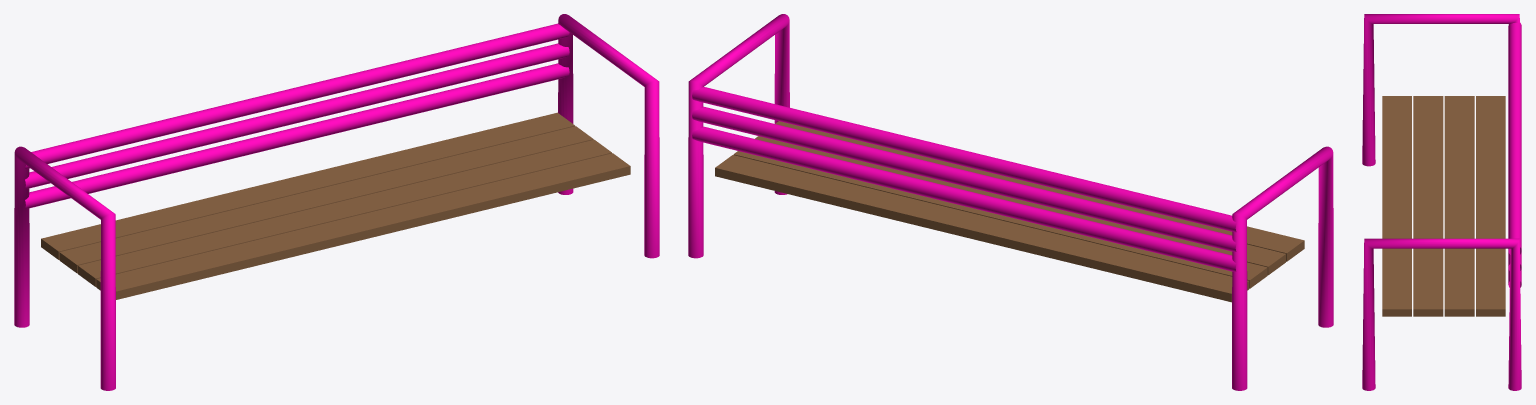
Rendered from silla pasillo.fbx.
3 renders of one model, left to right at view 1: azimuth 30°, elevation 25°; view 2: azimuth 150°, elevation 25°; view 3: azimuth 270°, elevation 25°, orthographic. The views are drawn at different scales.
Visible parts, largest first — view 1: Tablon_0, Tablon_1, Tablon_2, Tablon_3, Varilla_Respaldo_0, Varilla_Respaldo_1, Varilla_Respaldo_2, Marco_LI, Marco_LD; view 2: Tablon_3, Varilla_Respaldo_0, Varilla_Respaldo_1, Varilla_Respaldo_2, Marco_LI, Marco_LD, Tablon_2, Tablon_0, Tablon_1; view 3: Tablon_1, Tablon_2, Tablon_0, Tablon_3, Marco_LD, Marco_LI, Varilla_Respaldo_0.
Boxes of the visible parts, x1=… form: Tablon_0: x1=96, y1=153, x2=630, y2=299; Tablon_1: x1=78, y1=139, x2=611, y2=286; Tablon_2: x1=59, y1=126, x2=593, y2=273; Tablon_3: x1=41, y1=112, x2=574, y2=259; Varilla_Respaldo_0: x1=25, y1=23, x2=569, y2=169; Varilla_Respaldo_1: x1=25, y1=43, x2=569, y2=188; Varilla_Respaldo_2: x1=25, y1=63, x2=569, y2=208; Marco_LI: x1=14, y1=146, x2=115, y2=390; Marco_LD: x1=558, y1=14, x2=659, y2=258; Tablon_3: x1=715, y1=155, x2=1249, y2=302; Varilla_Respaldo_0: x1=692, y1=87, x2=1236, y2=232; Varilla_Respaldo_1: x1=692, y1=106, x2=1236, y2=251; Varilla_Respaldo_2: x1=692, y1=126, x2=1236, y2=271; Marco_LI: x1=1232, y1=146, x2=1333, y2=390; Marco_LD: x1=688, y1=14, x2=789, y2=258; Tablon_2: x1=733, y1=151, x2=1267, y2=288; Tablon_0: x1=775, y1=121, x2=1304, y2=261; Tablon_1: x1=755, y1=136, x2=1285, y2=275; Tablon_1: x1=1413, y1=96, x2=1443, y2=316; Tablon_2: x1=1444, y1=96, x2=1474, y2=316; Tablon_0: x1=1382, y1=96, x2=1411, y2=316; Tablon_3: x1=1476, y1=96, x2=1505, y2=316; Marco_LD: x1=1362, y1=238, x2=1521, y2=390; Marco_LI: x1=1362, y1=14, x2=1519, y2=166; Varilla_Respaldo_0: x1=1508, y1=22, x2=1521, y2=254.
Bounding box in the file's own units: 205 × 61.77 × 60.
